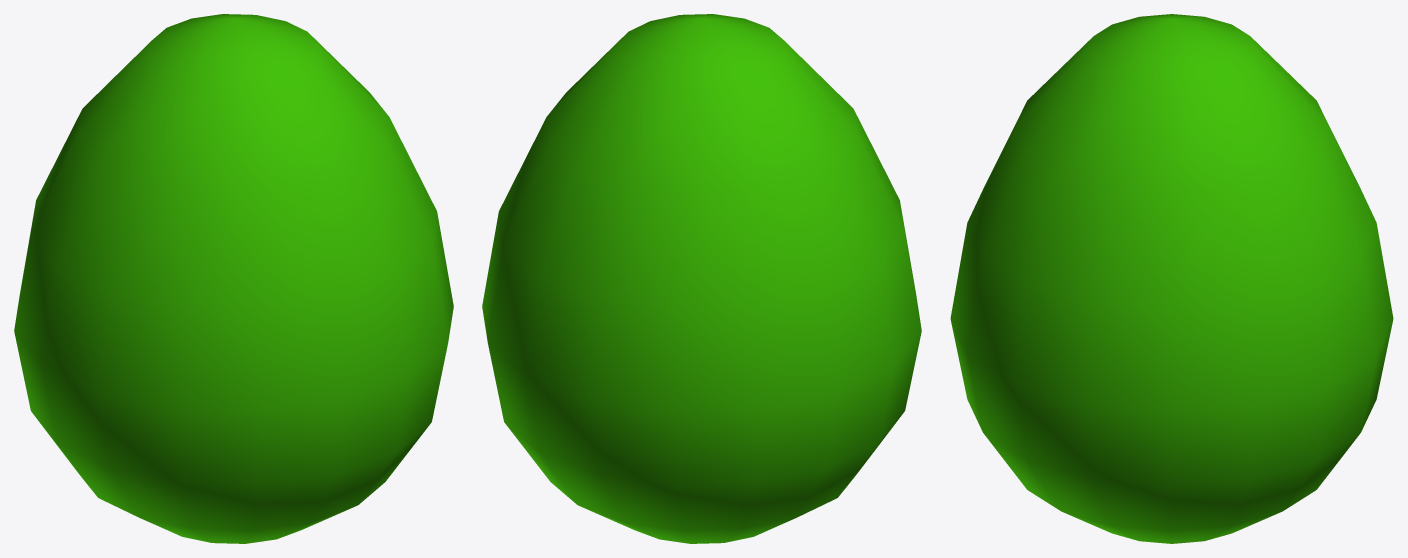
File: eggGreen01.glb
3 renders of one model, left to right at view 1: azimuth 30°, elevation 25°; view 2: azimuth 150°, elevation 25°; view 3: azimuth 270°, elevation 25°, orthographic.
Visible parts, largest first — view 1: Sphere004; view 2: Sphere004; view 3: Sphere004.
Part boxes in pixels (box(x1,y1,x2,y2)): Sphere004: box(14, 14, 453, 543); Sphere004: box(482, 14, 921, 543); Sphere004: box(950, 14, 1393, 543).
Size of the model in its own units: 0.1403 by 0.1761 by 0.1403.
